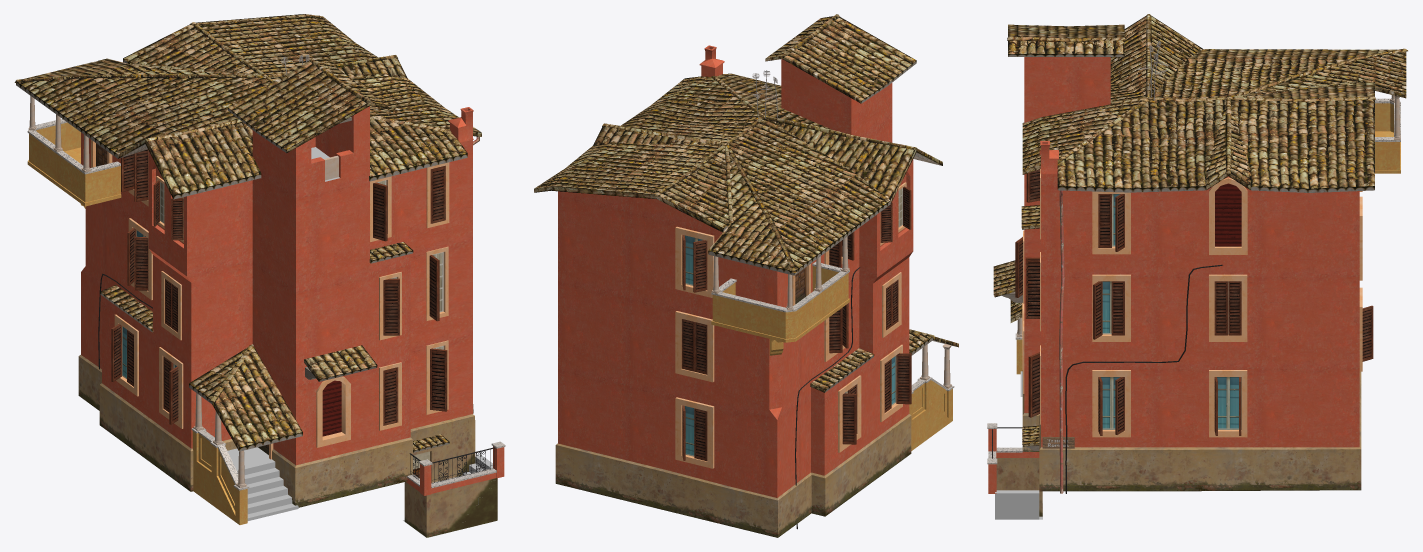
The model's file is House_1_final_V1.fbx.
The picture shows the model from 3 angles, left to right: view 1: azimuth 30°, elevation 25°; view 2: azimuth 150°, elevation 25°; view 3: azimuth 270°, elevation 25°; orthographic projection. The views are drawn at different scales.
Parts seen in each view (by area): view 1: House; view 2: House; view 3: House.
Part boxes in pixels (x1=…): House: x1=14, y1=14, x2=505, y2=537; House: x1=534, y1=14, x2=958, y2=537; House: x1=987, y1=14, x2=1407, y2=519.
Size of the model in its own units: 1014 by 1463 by 1263.
